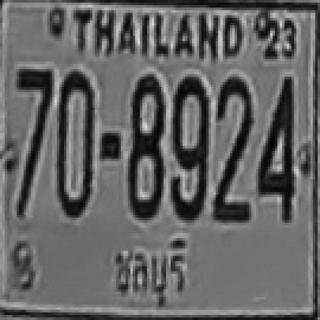N00: (171, 76, 209, 165)
N07: (14, 66, 52, 148)
N08: (125, 76, 163, 216)
N09: (168, 112, 206, 218)
P13: (110, 234, 188, 309)
